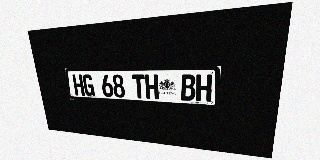6: (100, 74, 114, 97)
8: (112, 74, 125, 98)
B: (181, 74, 196, 101)
G: (82, 74, 95, 96)
H: (196, 74, 212, 102), (145, 74, 159, 99), (72, 74, 85, 96)
T: (132, 74, 146, 99)
